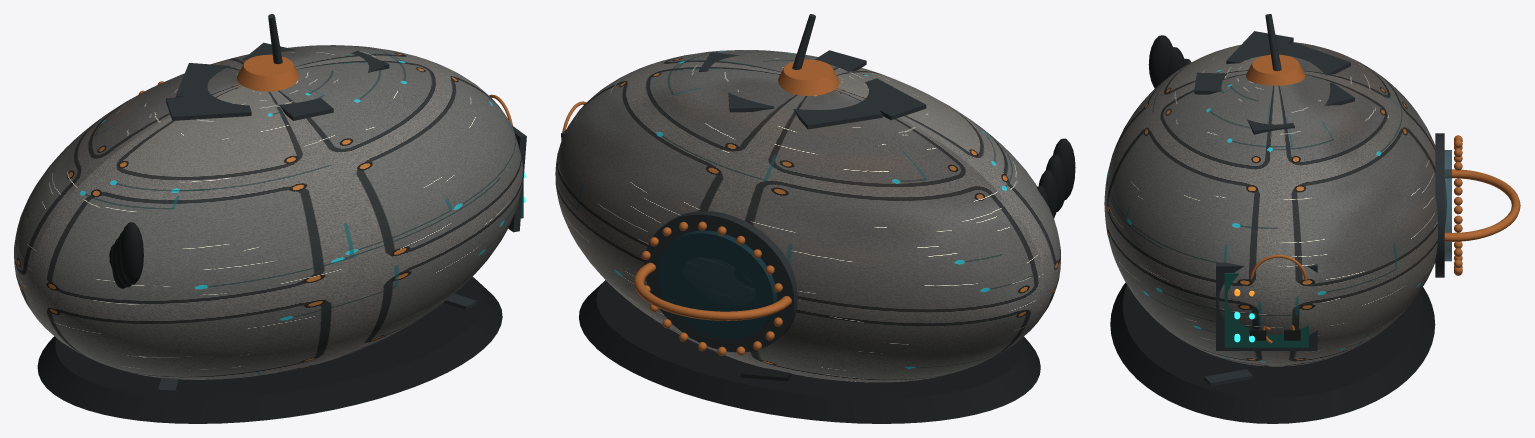
Rendered from BlueFox_Capsule_Depart.glb.
3 renders of one model, left to right at view 1: azimuth 30°, elevation 25°; view 2: azimuth 150°, elevation 25°; view 3: azimuth 270°, elevation 25°, orthographic. The views are drawn at different scales.
Visible parts, largest first — view 1: Coque_ovoide, Bouclier_impact, Socle_antenne, Blindage_superieur_3, Brulure_8, Blindage_superieur_4, Blindage_superieur_2, Baie_technique_cadre; view 2: Coque_ovoide, Bouclier_impact, Cadre_trappe, Hublot, Anneau_cuivre, Socle_antenne, Blindage_superieur_3, Blindage_superieur_4, Brulure_8, Blindage_superieur_2, Brulure_7, Patin_3 (+3 smaller); view 3: Coque_ovoide, Bouclier_impact, Baie_technique_circuit, Anneau_cuivre, Socle_antenne, Baie_technique_cadre, Cadre_trappe, Blindage_superieur_3, Blindage_superieur_4, Brulure_8, Hublot, Blindage_superieur_2 (+3 smaller).
Boxes of the visible parts, x1,y1,x2,y2 form: Coque_ovoide: [14, 45, 522, 379]; Bouclier_impact: [37, 277, 502, 423]; Socle_antenne: [236, 55, 298, 91]; Blindage_superieur_3: [166, 95, 251, 120]; Brulure_8: [119, 222, 143, 284]; Blindage_superieur_4: [175, 63, 229, 97]; Blindage_superieur_2: [279, 98, 333, 120]; Baie_technique_cadre: [508, 125, 526, 232]; Coque_ovoide: [555, 50, 1060, 382]; Bouclier_impact: [579, 280, 1040, 423]; Cadre_trappe: [644, 211, 797, 352]; Hublot: [657, 230, 776, 339]; Anneau_cuivre: [633, 262, 791, 320]; Socle_antenne: [778, 59, 839, 95]; Blindage_superieur_3: [863, 78, 926, 120]; Blindage_superieur_4: [793, 96, 882, 129]; Brulure_8: [1053, 138, 1075, 199]; Blindage_superieur_2: [814, 50, 866, 71]; Brulure_7: [1045, 154, 1066, 211]; Patin_3: [740, 367, 791, 381]; Coque_ovoide: [1104, 42, 1446, 366]; Bouclier_impact: [1110, 282, 1435, 423]; Baie_technique_circuit: [1224, 273, 1308, 347]; Anneau_cuivre: [1444, 169, 1520, 241]; Socle_antenne: [1246, 54, 1305, 85]; Baie_technique_cadre: [1216, 262, 1317, 350]; Cadre_trappe: [1435, 133, 1444, 277]; Blindage_superieur_3: [1226, 31, 1293, 64]; Blindage_superieur_4: [1279, 42, 1350, 75]; Brulure_8: [1148, 35, 1172, 88]; Hublot: [1444, 150, 1451, 261]; Blindage_superieur_2: [1194, 72, 1226, 94].
Size of the model in its own units: 8.78 by 5.97 by 7.04.
8 materials, 1 textured.
